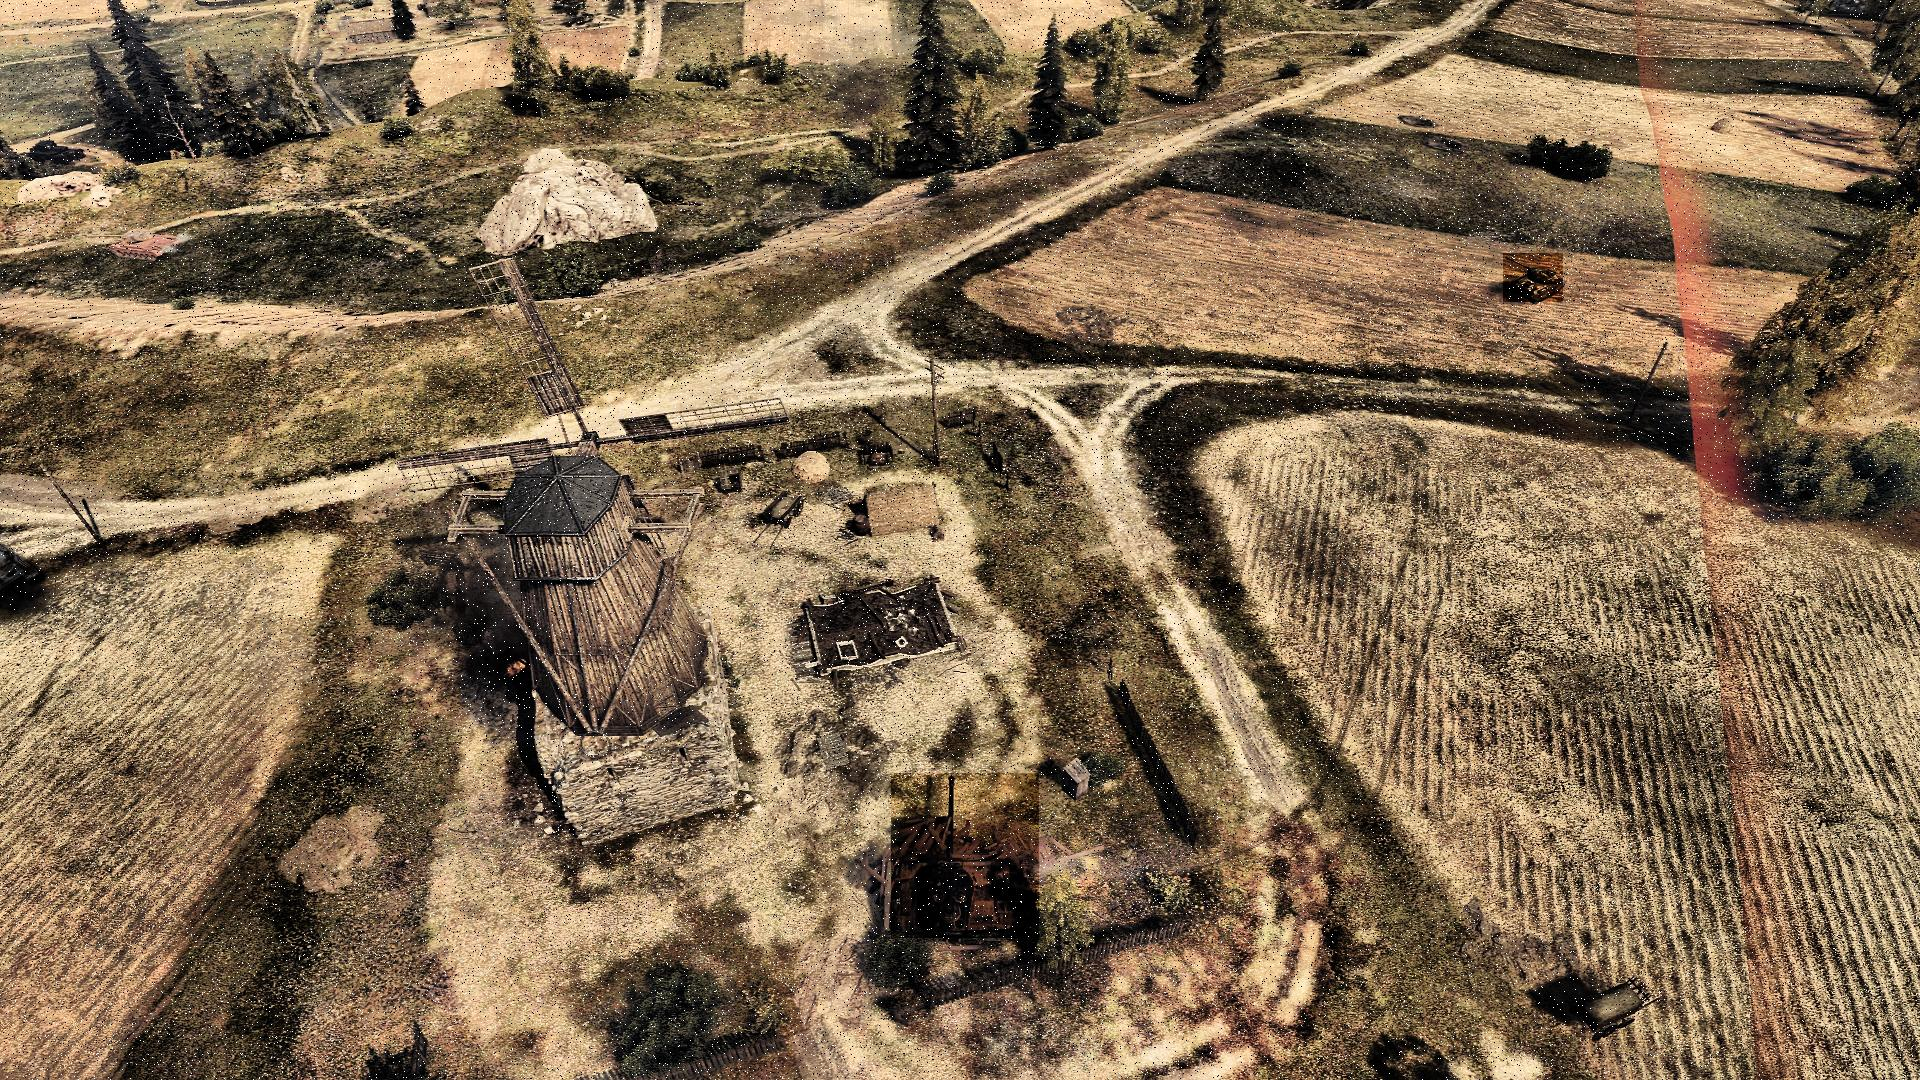military-vehicle: (891, 773, 1040, 939), (1503, 253, 1564, 302)
